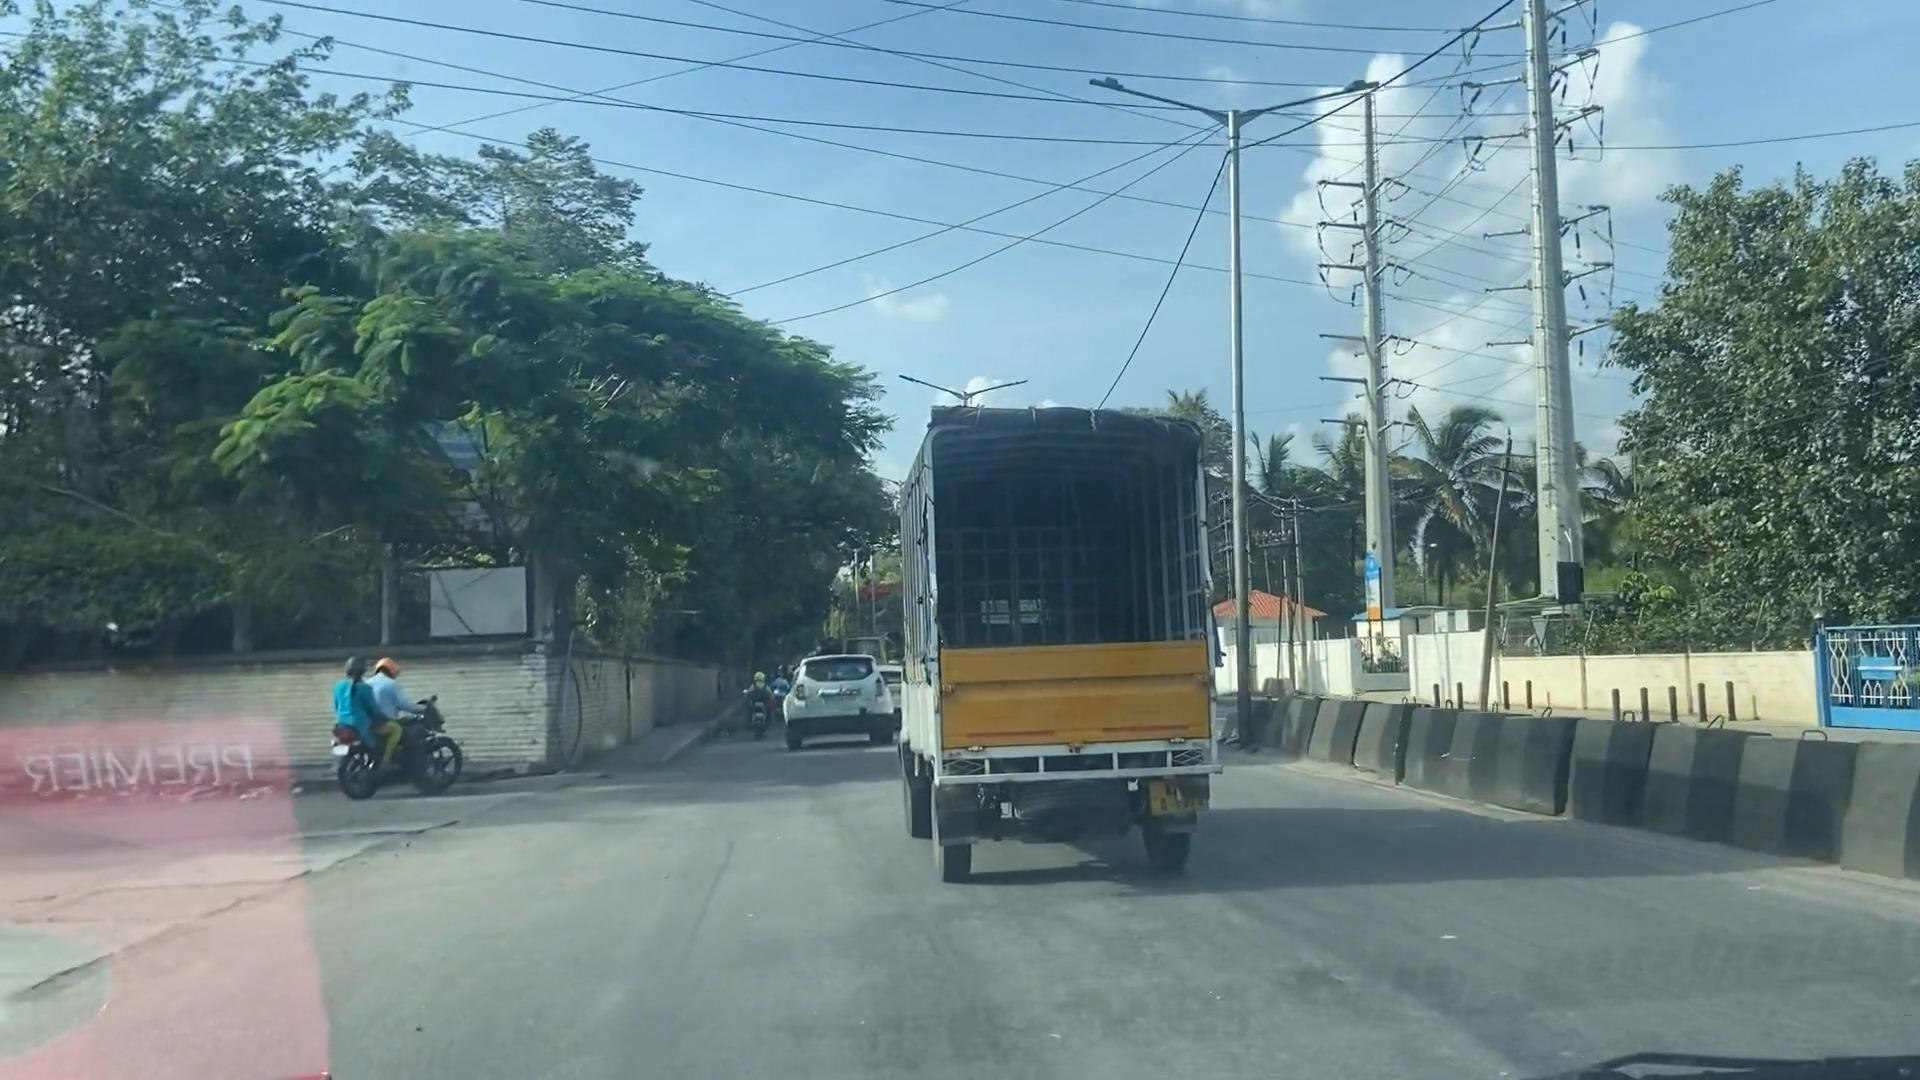HMV: (903, 410, 1225, 864)
LMV: (786, 659, 891, 742)
RoadDamages: (0, 807, 502, 1017)
